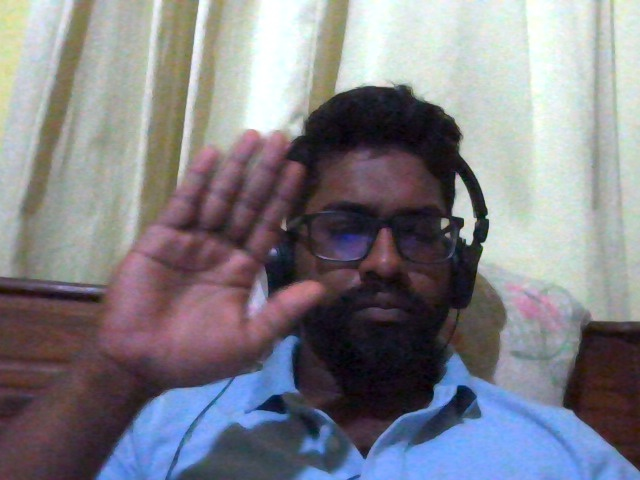Hello: (81, 125, 335, 394)
